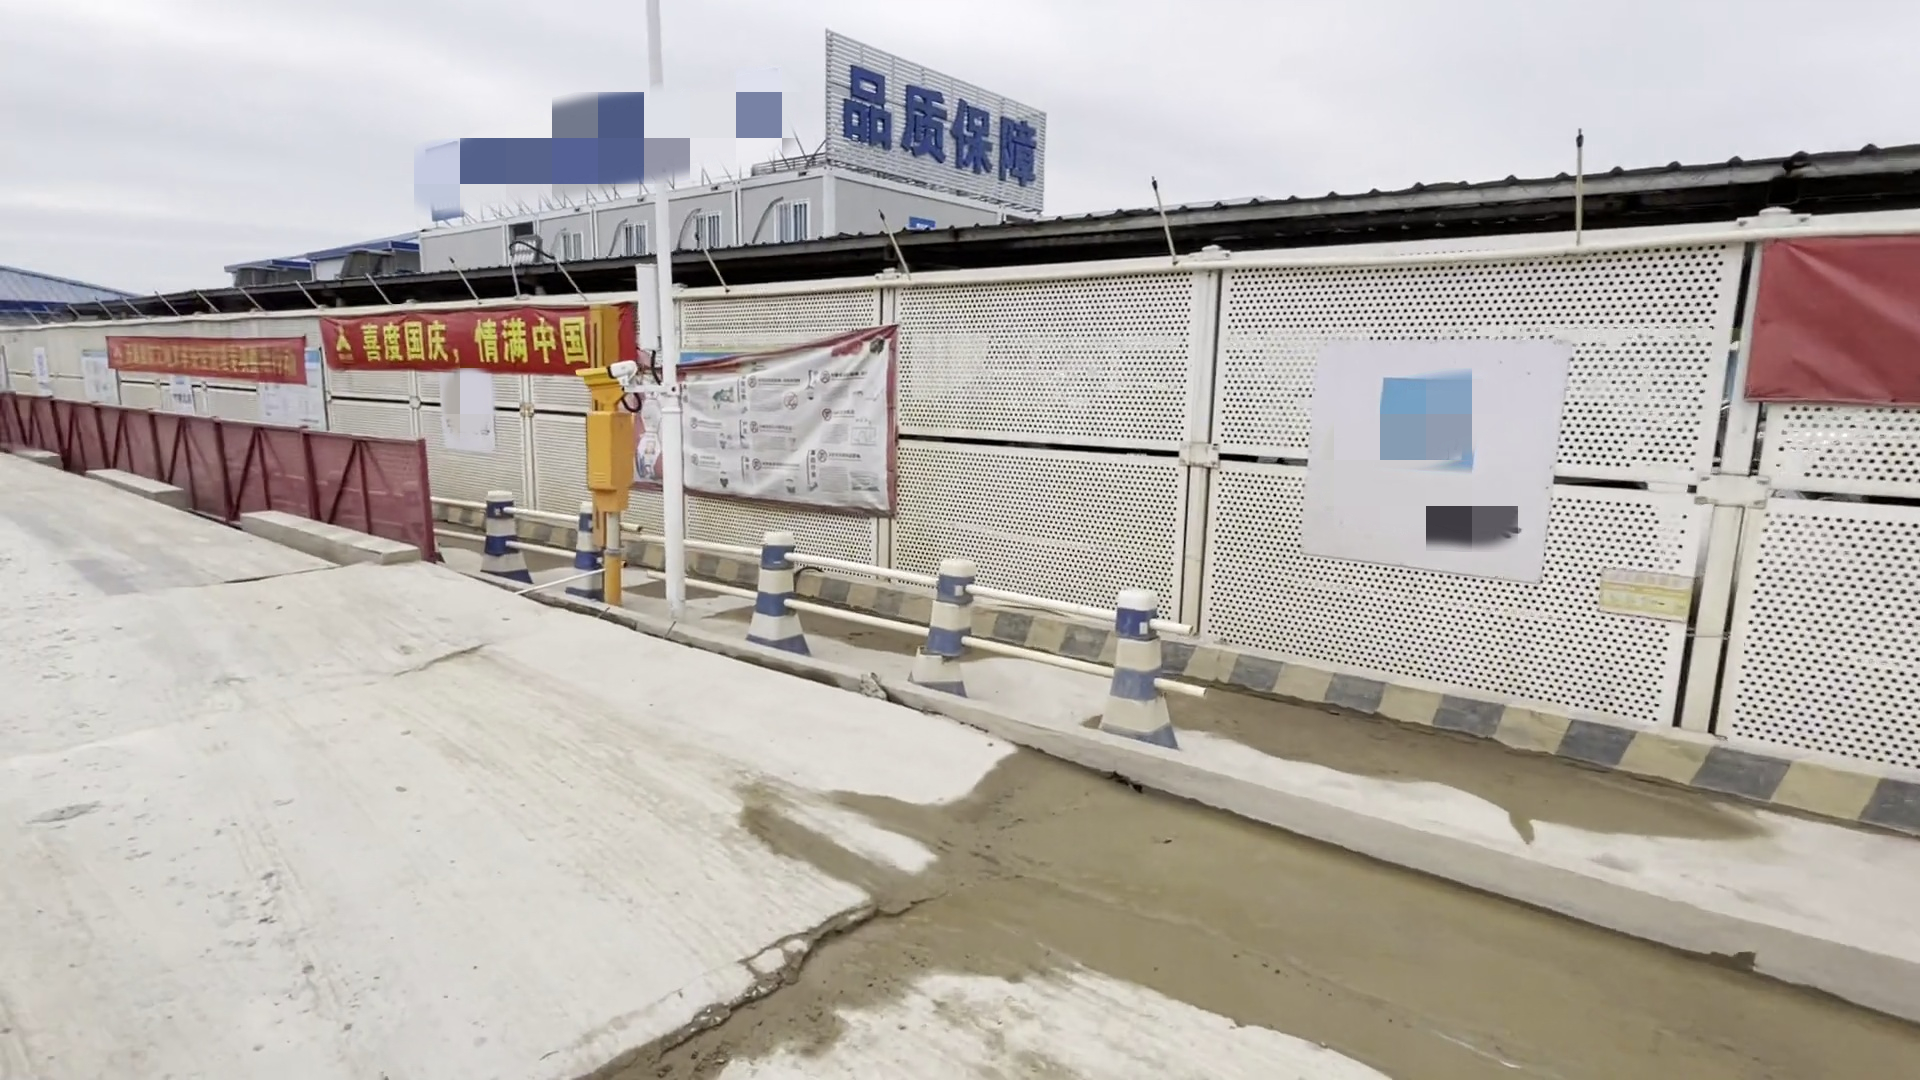fence: (195, 419, 444, 554), (25, 396, 203, 500)
slogan: (837, 57, 1033, 189), (320, 316, 603, 368), (100, 335, 314, 382)
